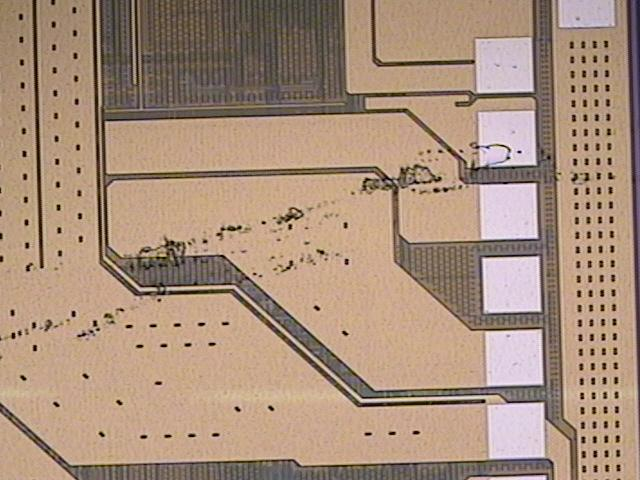SCRATCH: (1, 138, 640, 349)
